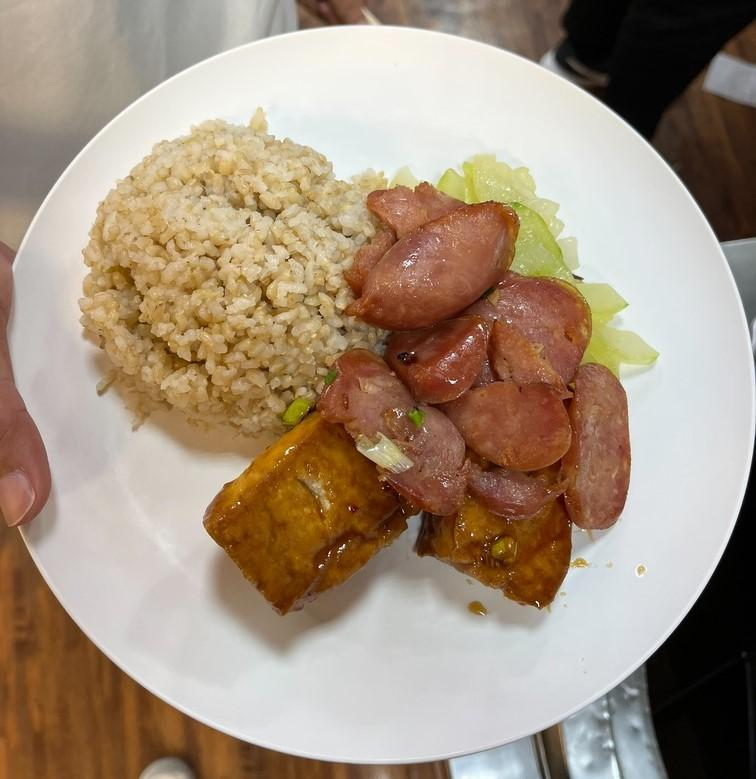big fried chicken leg: (7, 17, 756, 770)
box: (75, 112, 392, 426)
braised fish fillet: (199, 404, 572, 618), (427, 152, 658, 378)
braised pork: (327, 182, 628, 522)
